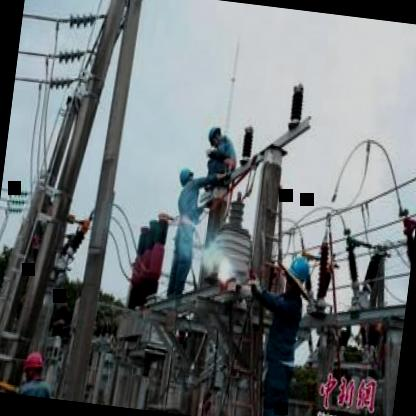helmet: (280, 248, 315, 304), (21, 348, 46, 383), (177, 163, 195, 190), (205, 123, 224, 146)
